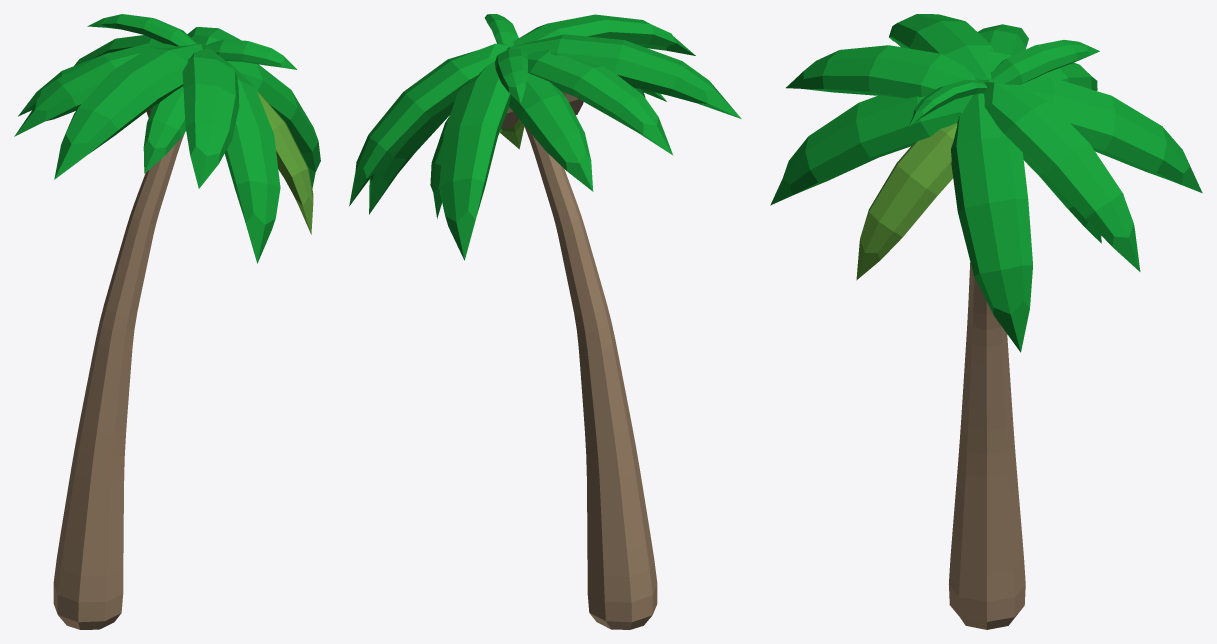
The model's file is Palm_01.fbx.
The picture shows the model from 3 angles, left to right: view 1: azimuth 30°, elevation 25°; view 2: azimuth 150°, elevation 25°; view 3: azimuth 270°, elevation 25°; orthographic projection. The views are drawn at different scales.
Parts seen in each view (by area): view 1: palm_4; view 2: palm_4; view 3: palm_4.
Boxes of the visible parts, x1,y1,x2,y2 form: palm_4: (14,14,320,629); palm_4: (349,14,741,629); palm_4: (770,14,1202,629).
Bounding box in the file's own units: 771 × 836 × 1323.
